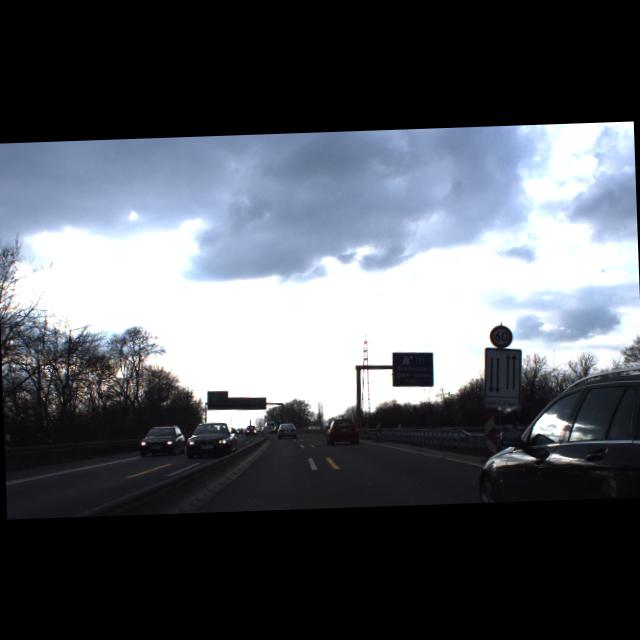prohibitory: (487, 323, 512, 348)
